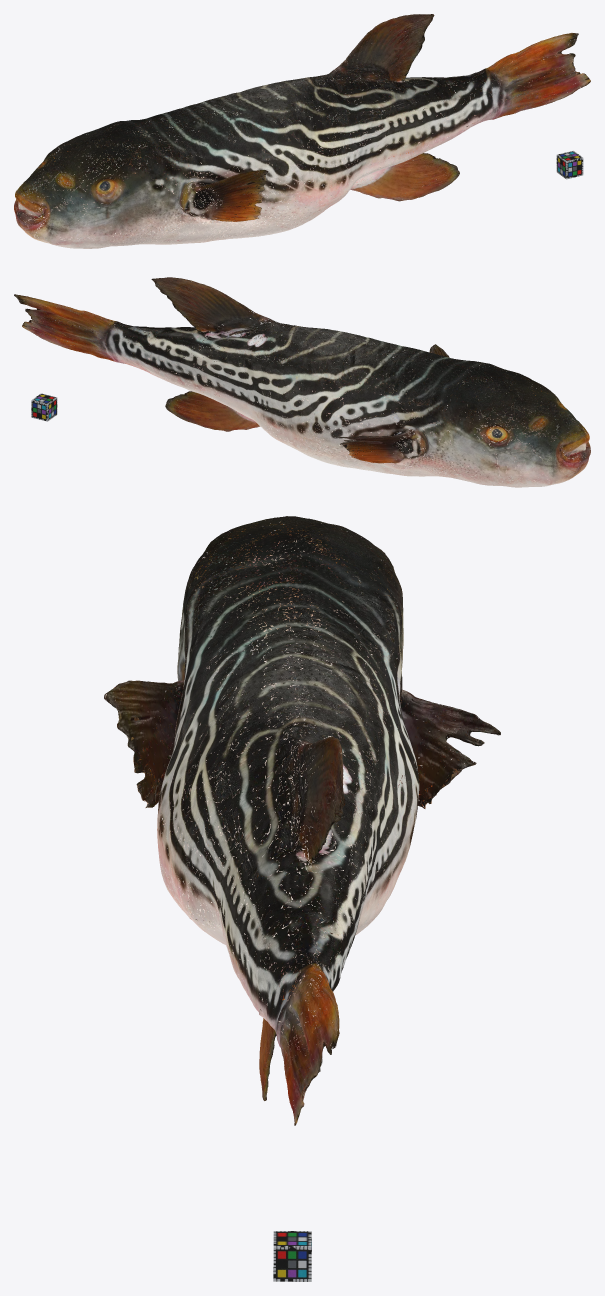
Rendered from scan_stripedpuffer.glb.
3 views of the same model, one above another, from view 1: azimuth 30°, elevation 25°; view 2: azimuth 150°, elevation 25°; view 3: azimuth 270°, elevation 25° (orthographic). The views are drawn at different scales.
Visible parts, largest first — view 1: Object_6, Object_18, Object_12, Object_4; view 2: Object_18, Object_12, Object_6, Object_4; view 3: Object_6, Object_18, Object_12, Object_4.
Part boxes in pixels (x1,y1,x2,y2): Object_6: [14, 14, 590, 248]; Object_18: [14, 14, 590, 246]; Object_12: [14, 14, 580, 247]; Object_4: [556, 150, 583, 179]; Object_18: [14, 277, 590, 485]; Object_12: [16, 278, 590, 487]; Object_6: [14, 277, 589, 487]; Object_4: [31, 393, 57, 421]; Object_6: [113, 517, 499, 1125]; Object_18: [104, 518, 500, 1125]; Object_12: [113, 516, 500, 1119]; Object_4: [273, 1231, 311, 1281].
Bounding box in the file's own units: 18.05 × 5.6 × 5.51.
4 materials, 4 textured.
